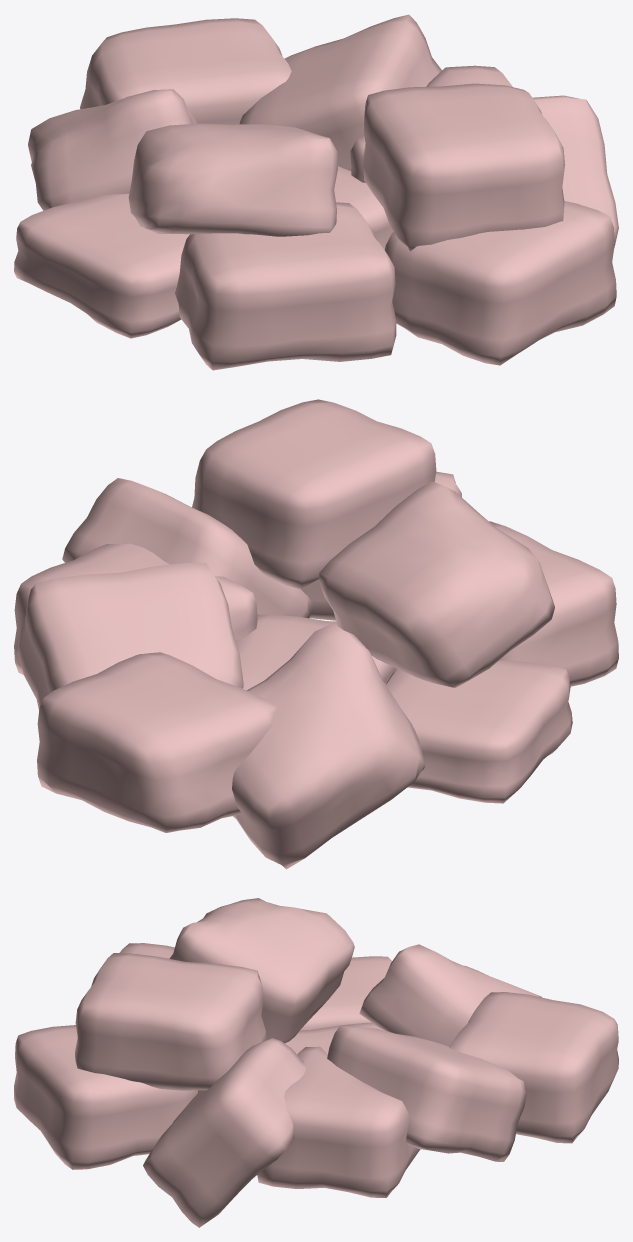
File: diced_chickenPrefab.fbx
The picture shows the model from 3 angles, top to bottom: view 1: azimuth 30°, elevation 25°; view 2: azimuth 150°, elevation 25°; view 3: azimuth 270°, elevation 25°; orthographic projection. The views are drawn at different scales.
Parts seen in each view (by area): view 1: chickencube4, chickencube17, chickencube15, chickencube16, chickencube12, chickencube9, chickencube3, chickencube10, chickencube13, chickencube11, chickencube2; view 2: chickencube16, chickencube9, chickencube10, chickencube4, chickencube3, chickencube12, chickencube13, chickencube17, chickencube2, chickencube11, chickencube15; view 3: chickencube4, chickencube13, chickencube9, chickencube3, chickencube15, chickencube2, chickencube16, chickencube10, chickencube12, chickencube11, chickencube17.
Part boxes in pixels (<box>): chickencube4: <box>363,83,564,251</box>; chickencube17: <box>175,202,396,370</box>; chickencube15: <box>385,201,616,365</box>; chickencube16: <box>128,123,337,236</box>; chickencube12: <box>14,193,189,338</box>; chickencube9: <box>80,18,291,124</box>; chickencube3: <box>239,14,441,170</box>; chickencube10: <box>28,89,196,210</box>; chickencube13: <box>533,95,618,247</box>; chickencube11: <box>334,166,393,249</box>; chickencube2: <box>350,65,512,182</box>; chickencube16: <box>319,481,554,687</box>; chickencube9: <box>37,652,276,832</box>; chickencube10: <box>232,623,425,869</box>; chickencube4: <box>192,399,436,588</box>; chickencube3: <box>17,563,243,710</box>; chickencube12: <box>386,660,572,803</box>; chickencube13: <box>62,478,313,618</box>; chickencube17: <box>489,521,618,686</box>; chickencube2: <box>14,543,257,674</box>; chickencube11: <box>236,614,396,690</box>; chickencube15: <box>301,471,461,620</box>; chickencube4: <box>75,953,266,1090</box>; chickencube13: <box>143,1038,305,1227</box>; chickencube9: <box>449,992,618,1143</box>; chickencube3: <box>327,1025,526,1161</box>; chickencube15: <box>14,1025,197,1169</box>; chickencube2: <box>257,1046,420,1197</box>; chickencube16: <box>169,898,354,1043</box>; chickencube10: <box>359,944,541,1046</box>; chickencube12: <box>300,956,391,1030</box>; chickencube11: <box>285,1022,385,1054</box>; chickencube17: <box>119,943,198,1090</box>.
Bounding box in the file's own units: 312 × 131 × 380.
